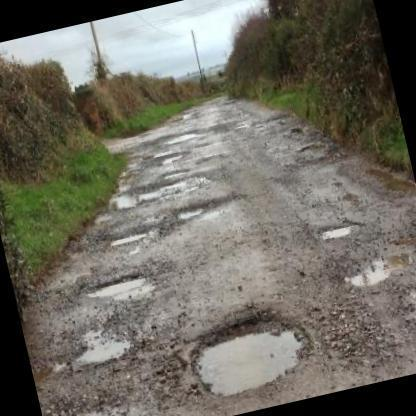pothole: (192, 310, 317, 406), (68, 328, 148, 372), (80, 272, 158, 306), (173, 188, 241, 226), (338, 248, 394, 292), (101, 222, 166, 250), (112, 188, 165, 214), (316, 216, 358, 244)
